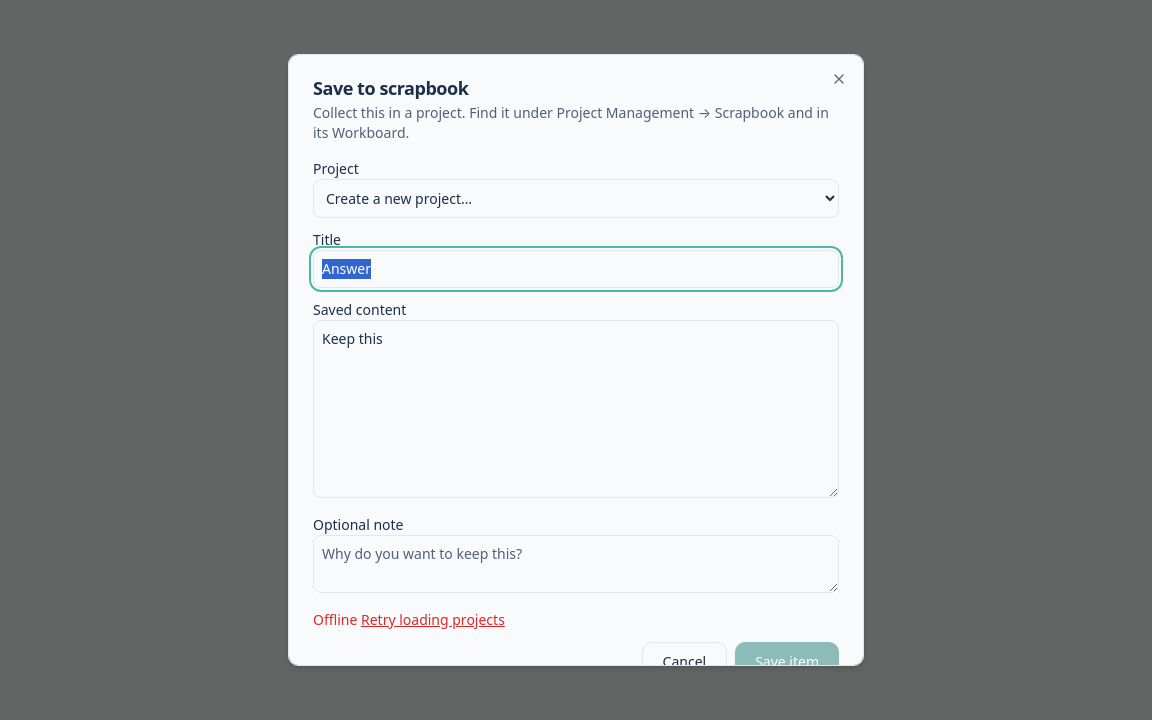
Test case: keeps loading failures recoverable even when a project was preselected
Expected: the text "Offline Retry loading projects" is shown, [313, 610, 505, 630]
Click the button "Retry loading projects": click(433, 620) [361, 610, 505, 630]
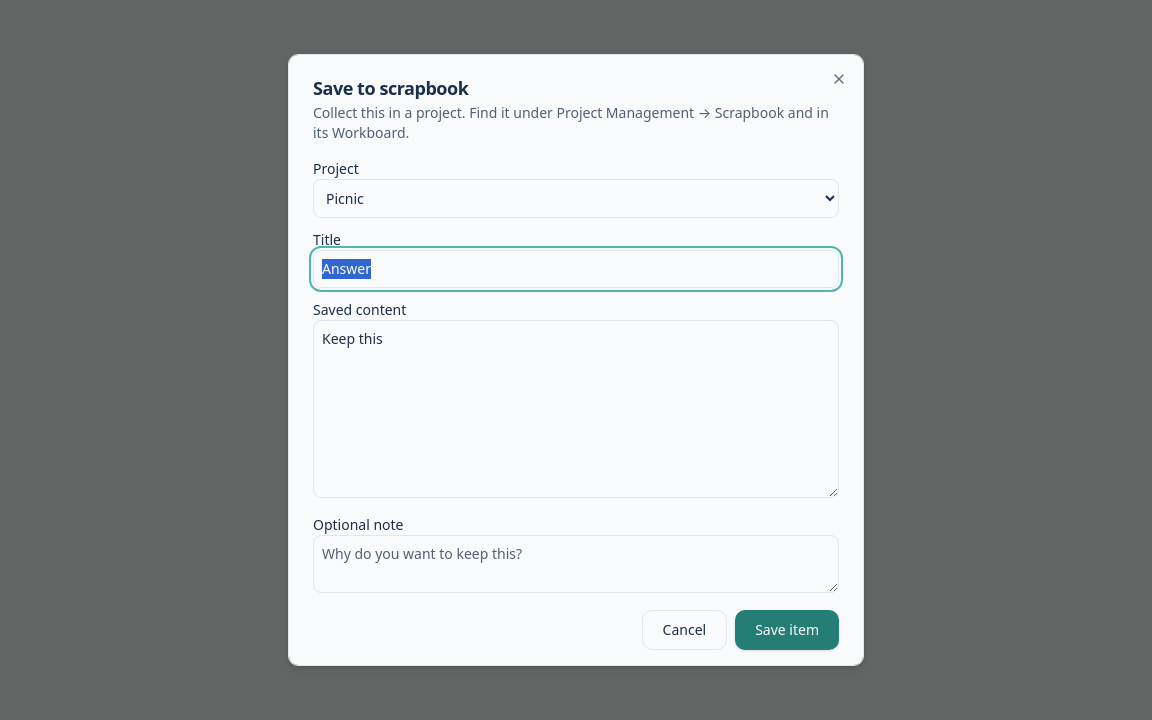
Now the button "Save item" is enabled, box [735, 610, 839, 650]
